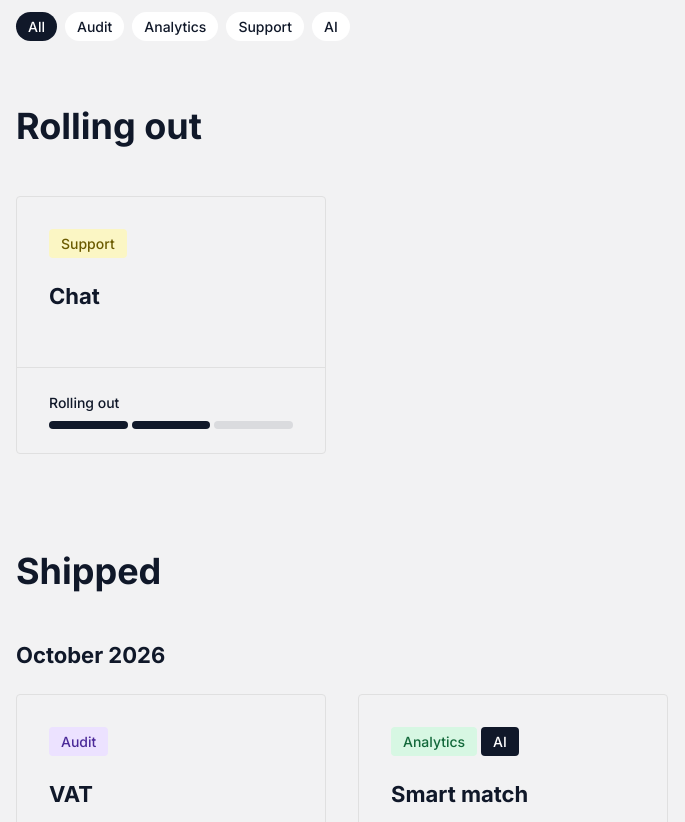
ReleaseTimelineBlock › shows an AI chip next to the category, and filters by AI
Click the button "AI".
click(331, 26)  # box [312,12,350,41]
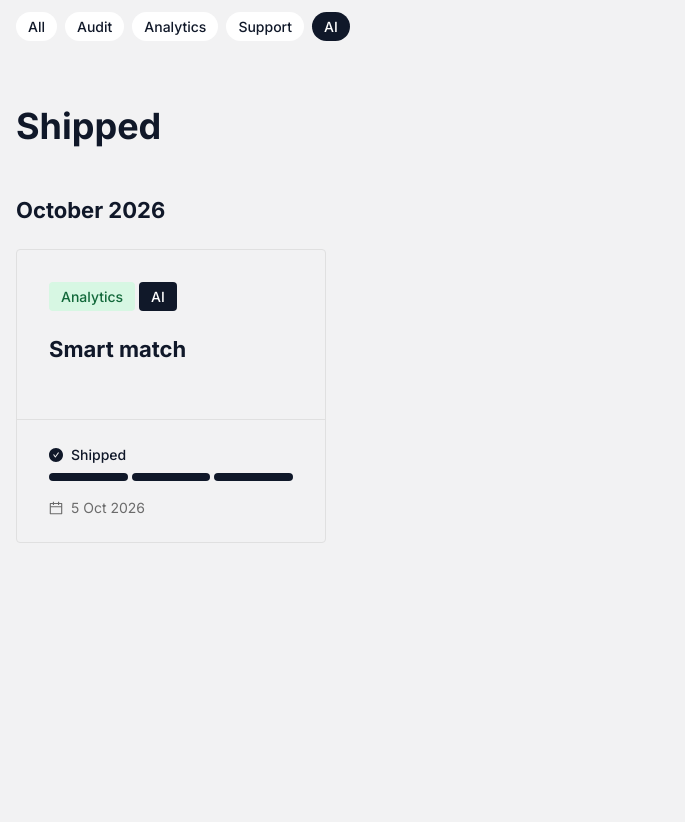
Expected: the heading "Smart match" is shown, [49,336,186,362]
Expected: the heading "VAT" is gone
